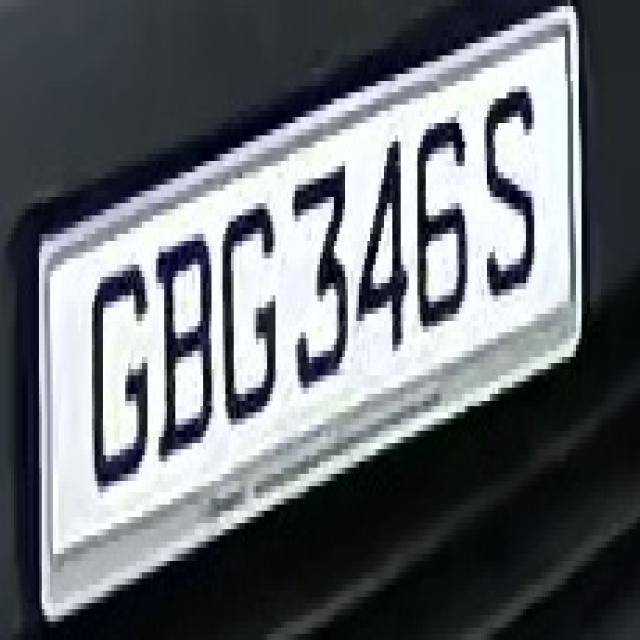3: (286, 148, 354, 394)
4: (348, 123, 414, 363)
6: (409, 105, 479, 363)
B: (153, 215, 220, 468)
G: (84, 246, 153, 505), (217, 185, 281, 443)
S: (476, 68, 542, 295)
